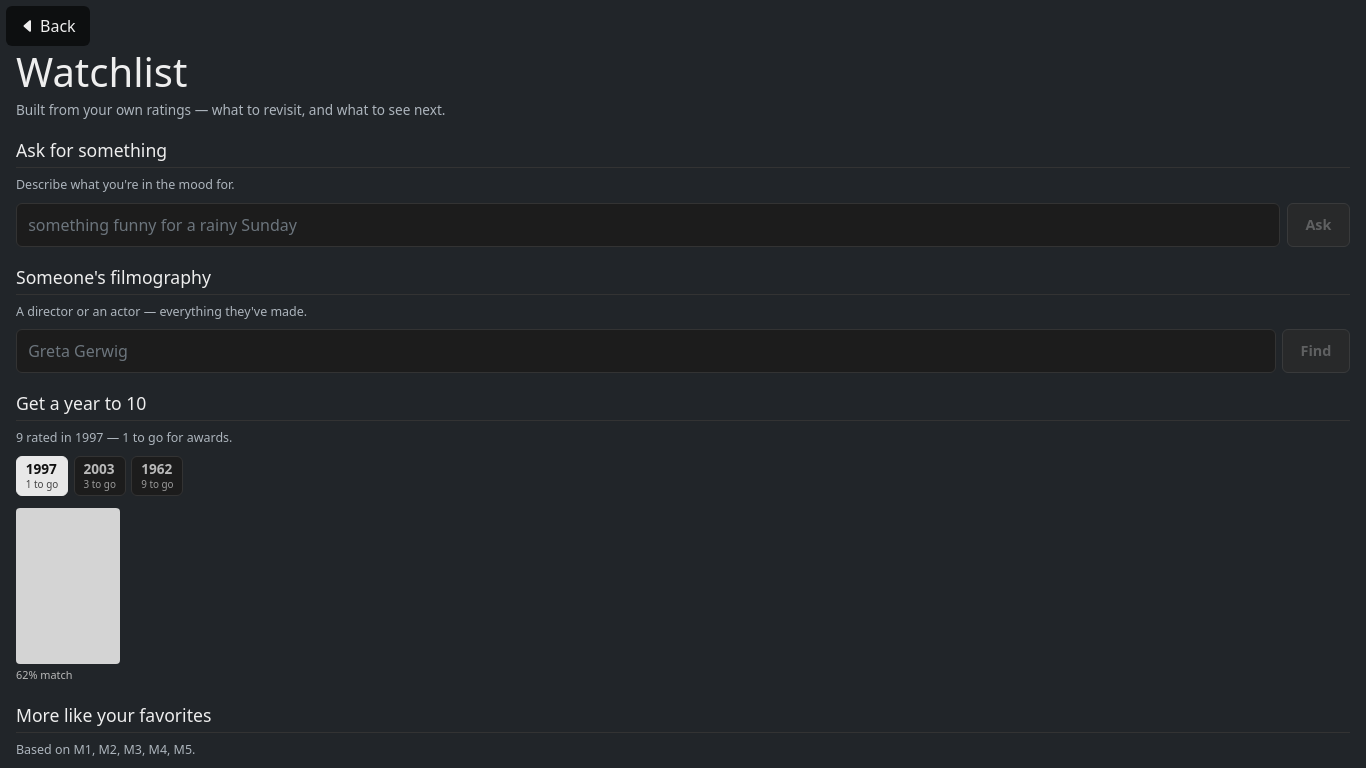
Test case: the "get a year to 10" picker › tapping another year swaps the list to that year, fetching it on demand
This screenshot has width=1366, height=768.
Step 1. Click the tab with class "year-tab" showing "1962 9 to go" → (157, 476), box [131,456,183,496]
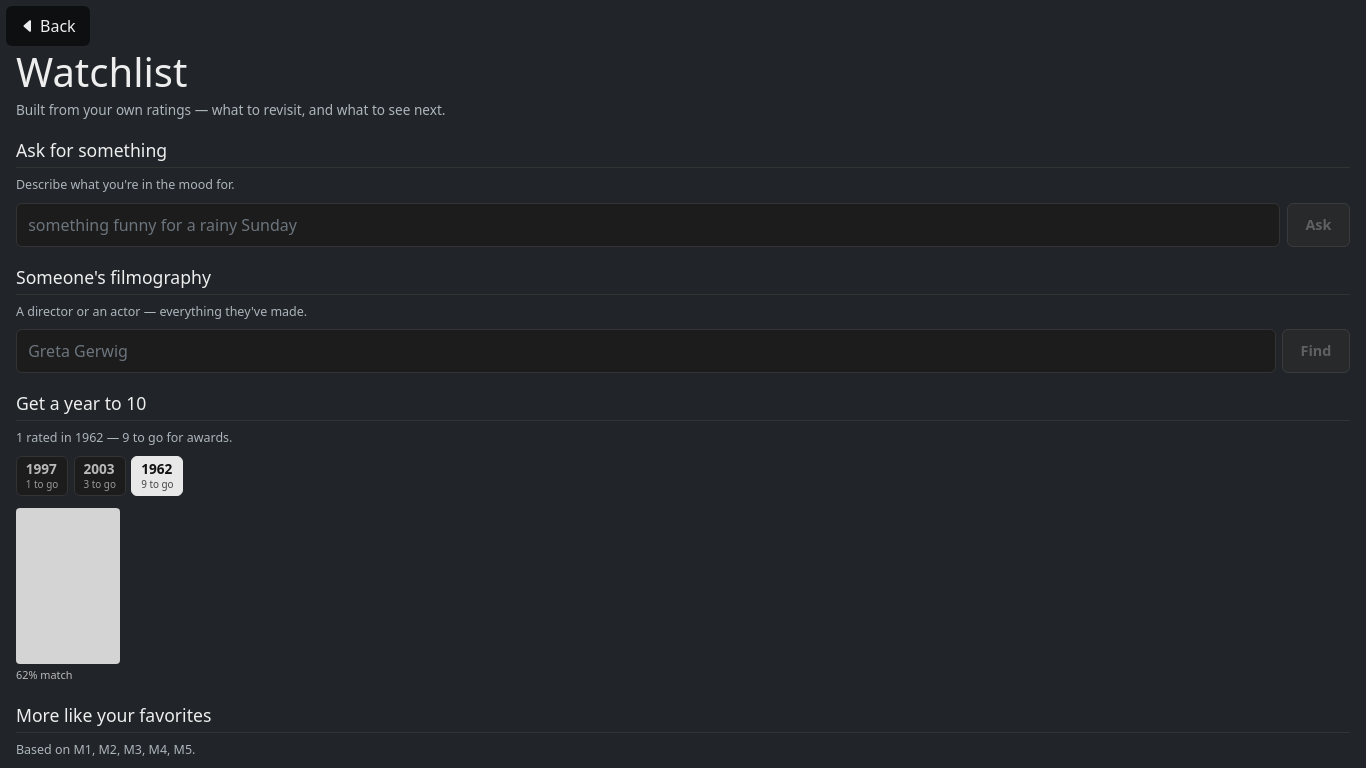
expect the text with class "year-tab-year" reads "1962": met, box [141,460,172,478]
expect the text "9 to go for awards" is shown: met, box [16,429,232,446]
